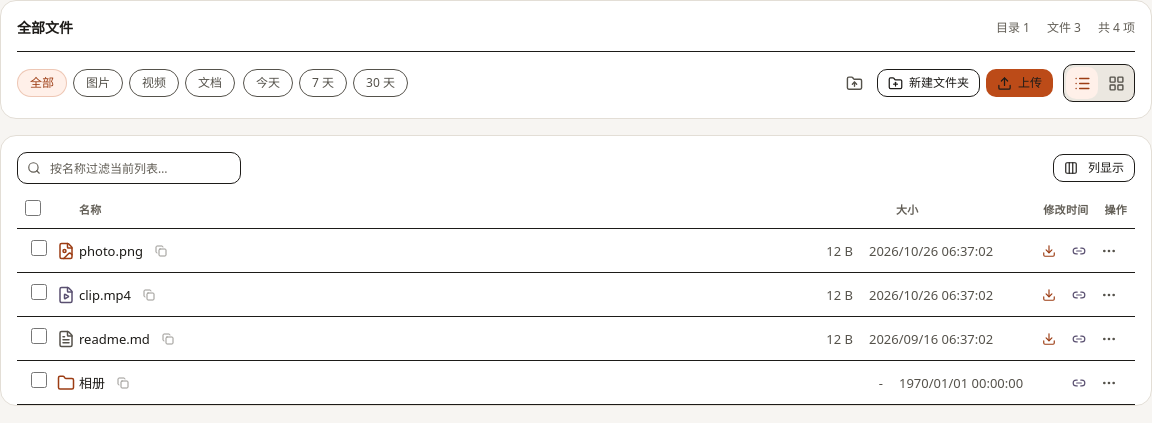
Test: filter chips narrow the current list purely client-side and restore on clear
The width and height of the screenshot is (1152, 423).
Expected: the button "photo.png" is shown, [79,240,143,260]
Click the button "图片": (98, 83) [73,69,123,97]
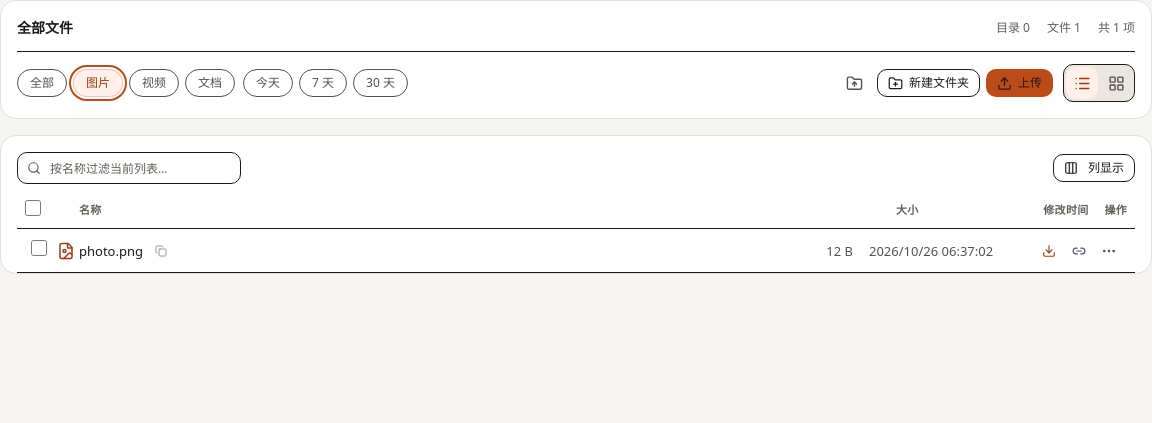
Expected: the button "photo.png" is shown, [79,240,143,260]
Expected: the button "clip.mp4" is gone
Expected: the button "相册" is gone
Click the button "今天": (268, 83) [243,69,293,97]
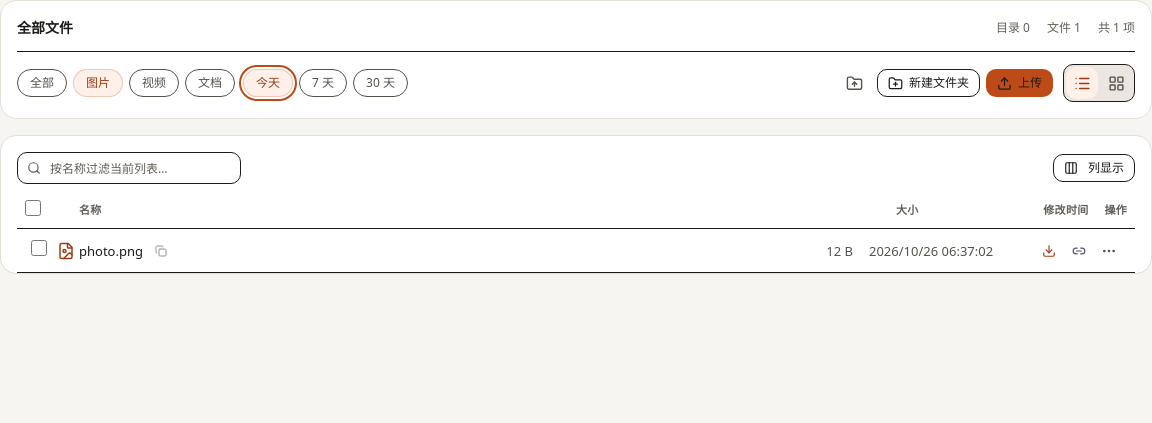
Expected: the button "photo.png" is shown, [79,240,143,260]
Note: 清空：时间 chip 再点一次取消，类型点「全部」
Click the button "今天": (268, 83) [243,69,293,97]
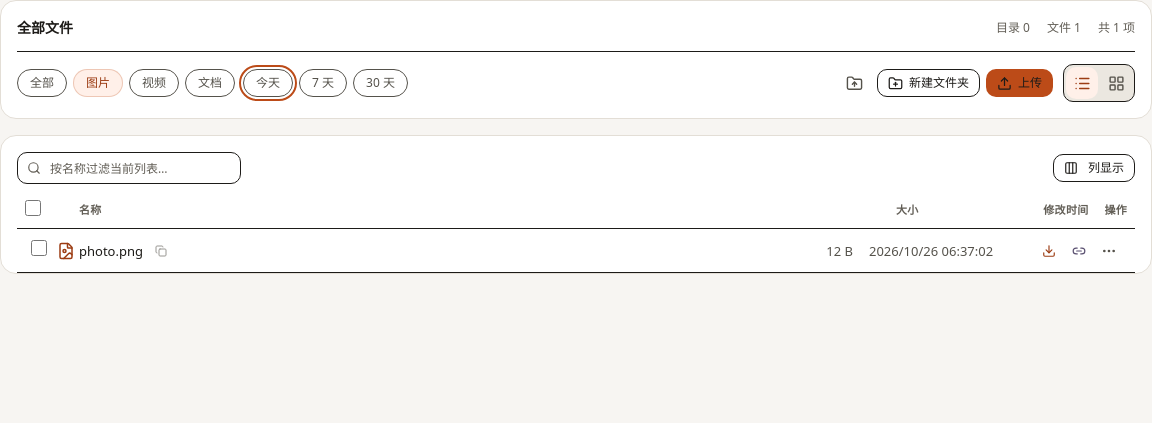
Click the button "全部": (42, 83) [17,69,67,97]
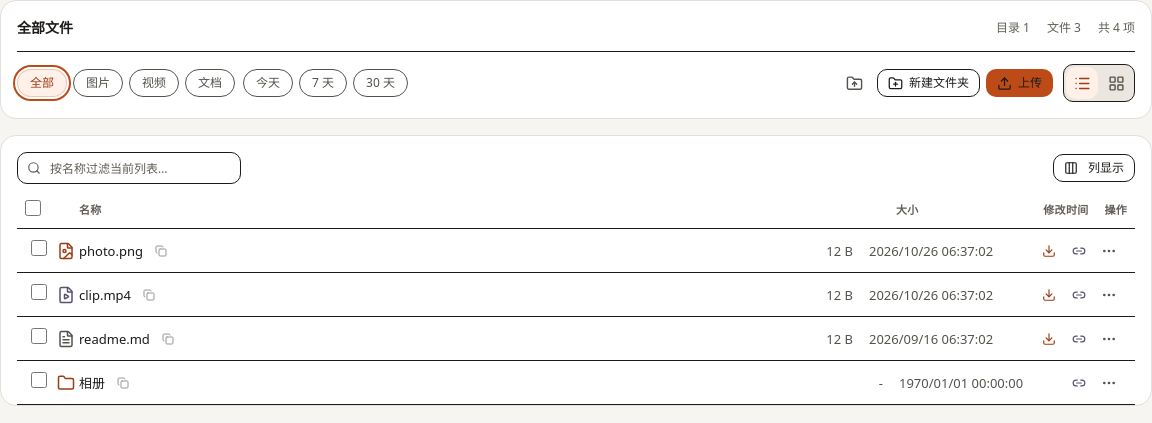
Expected: the button "clip.mp4" is shown, [79,284,131,304]
Expected: the button "readme.md" is shown, [79,328,150,348]
Expected: the button "相册" is shown, [79,372,105,392]
